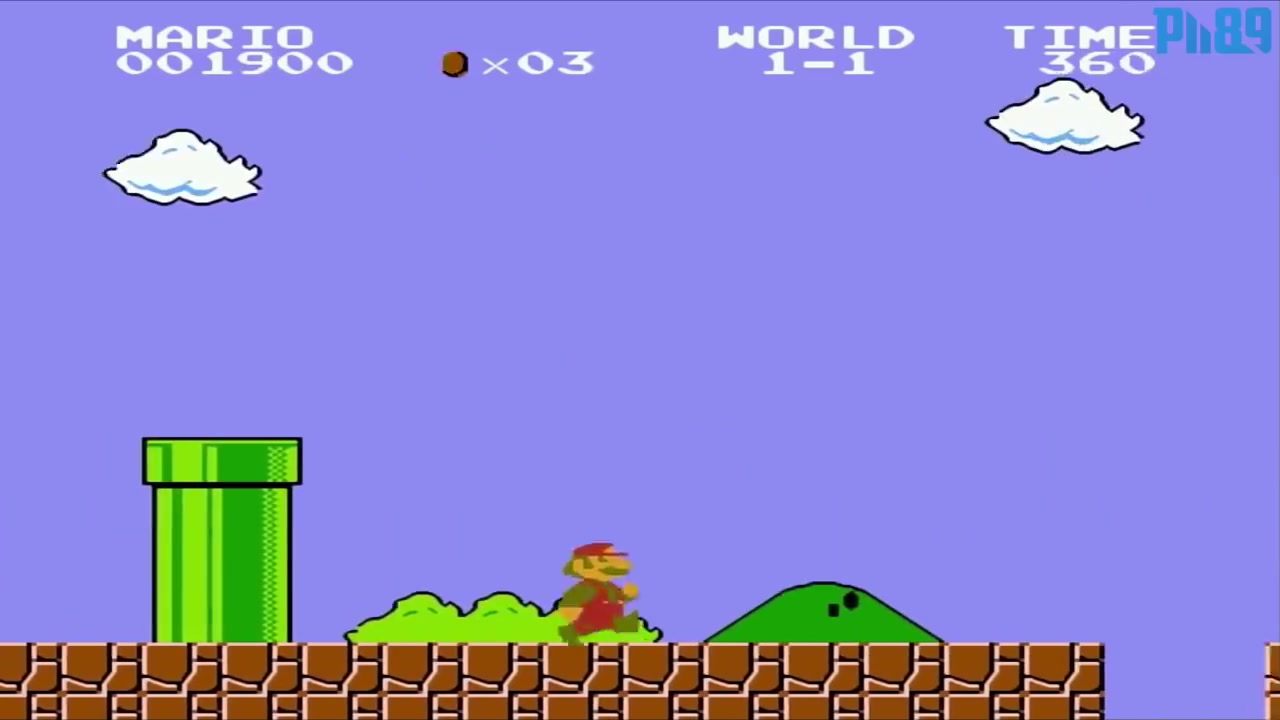mario: (544, 531, 643, 648)
